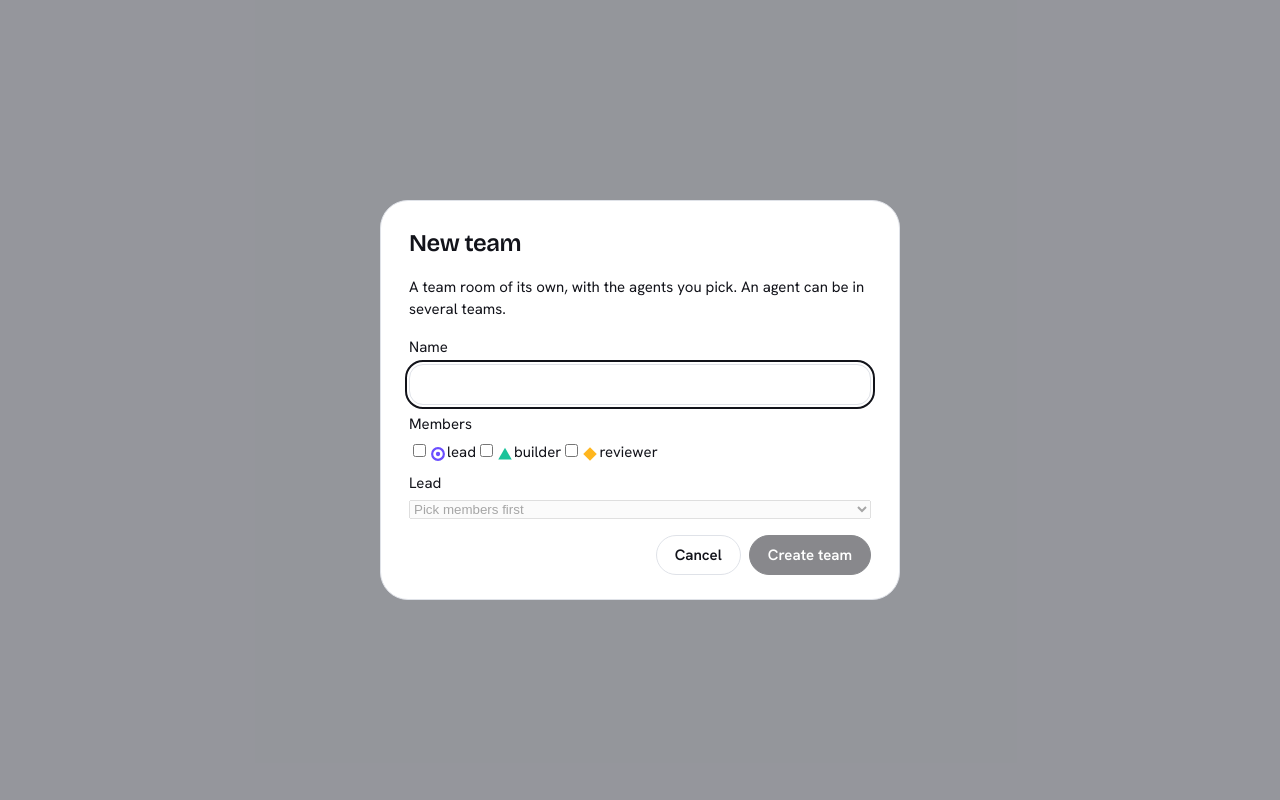
New team shows the server’s refusal inline and stays open
This screenshot has width=1280, height=800.
Type "Review crew" into the field labelled "Name". click: (640, 385)
box: [409,364,871,405]
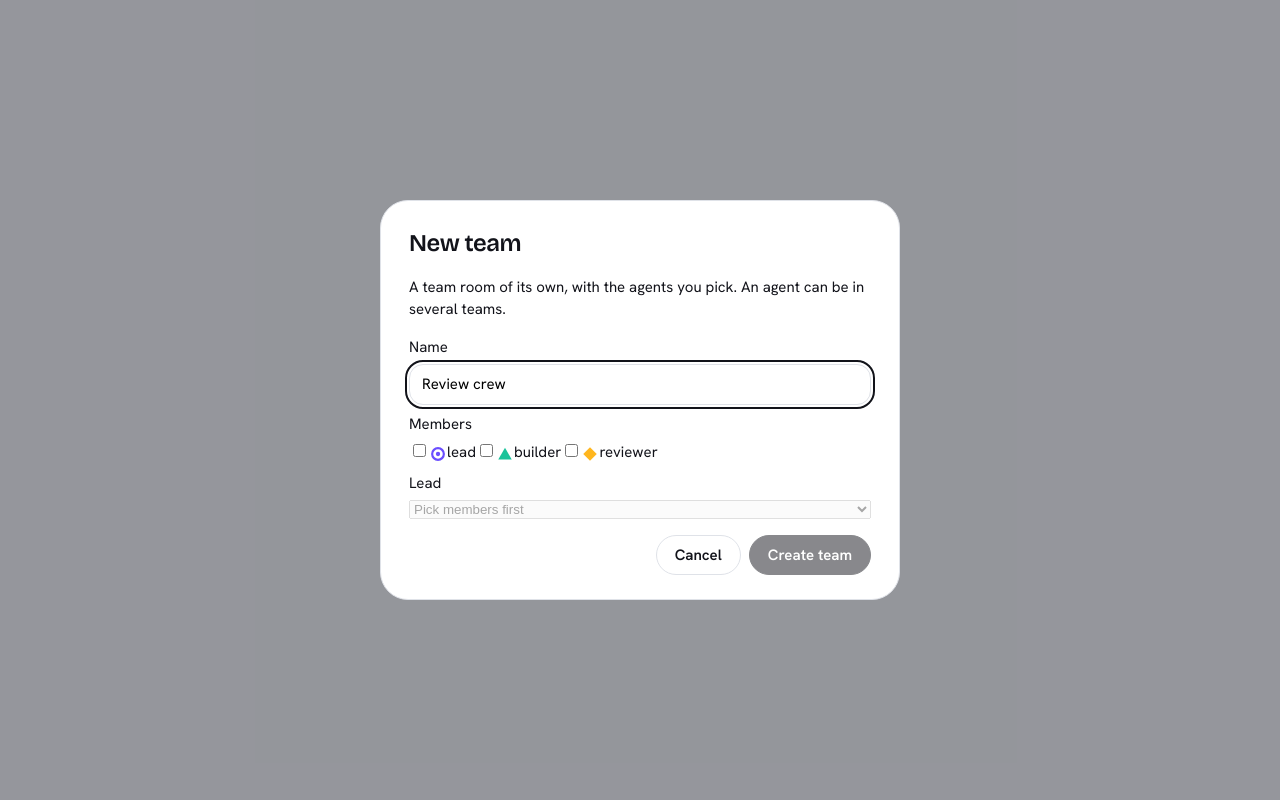
Click the checkbox labelled "lead". click: click(420, 451)
box: [413,444,426,457]
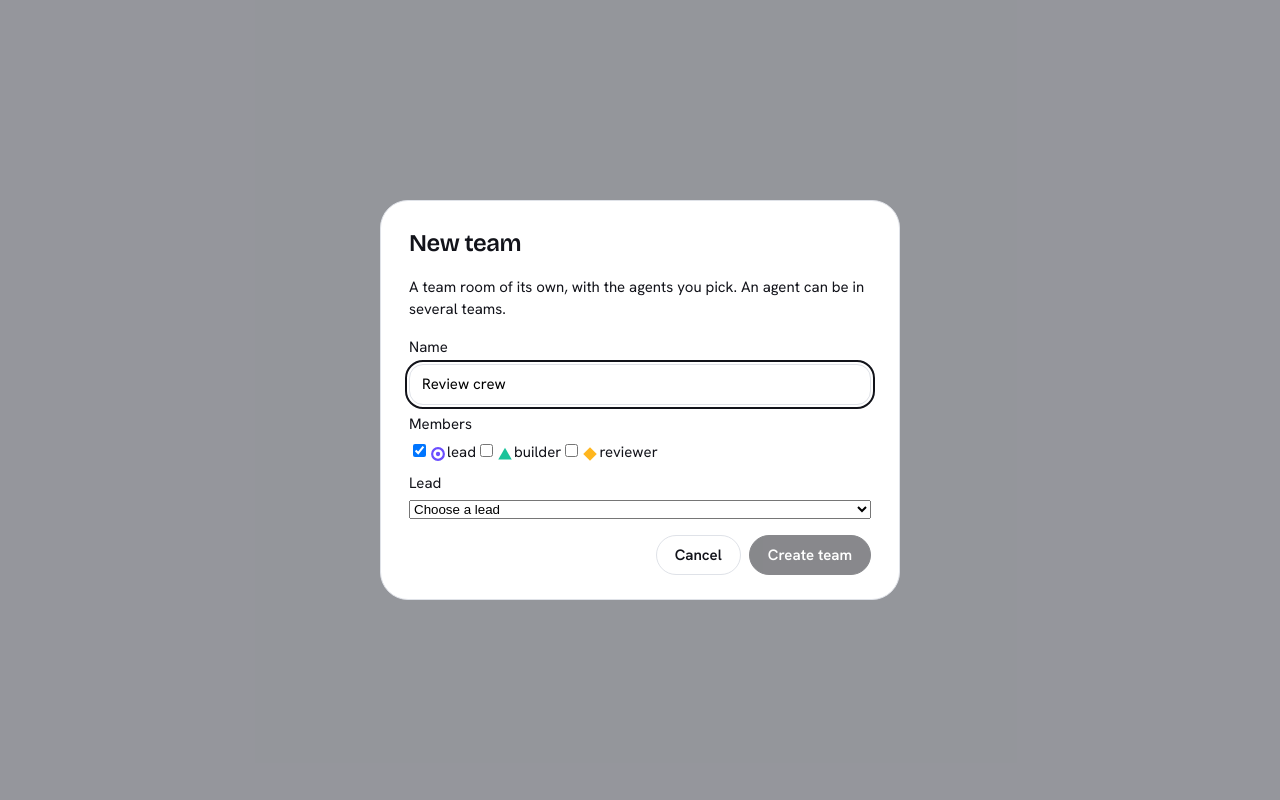
Select "lead" in the dropdown labelled "Lead". click: (640, 510)
box: [409,500,871,519]
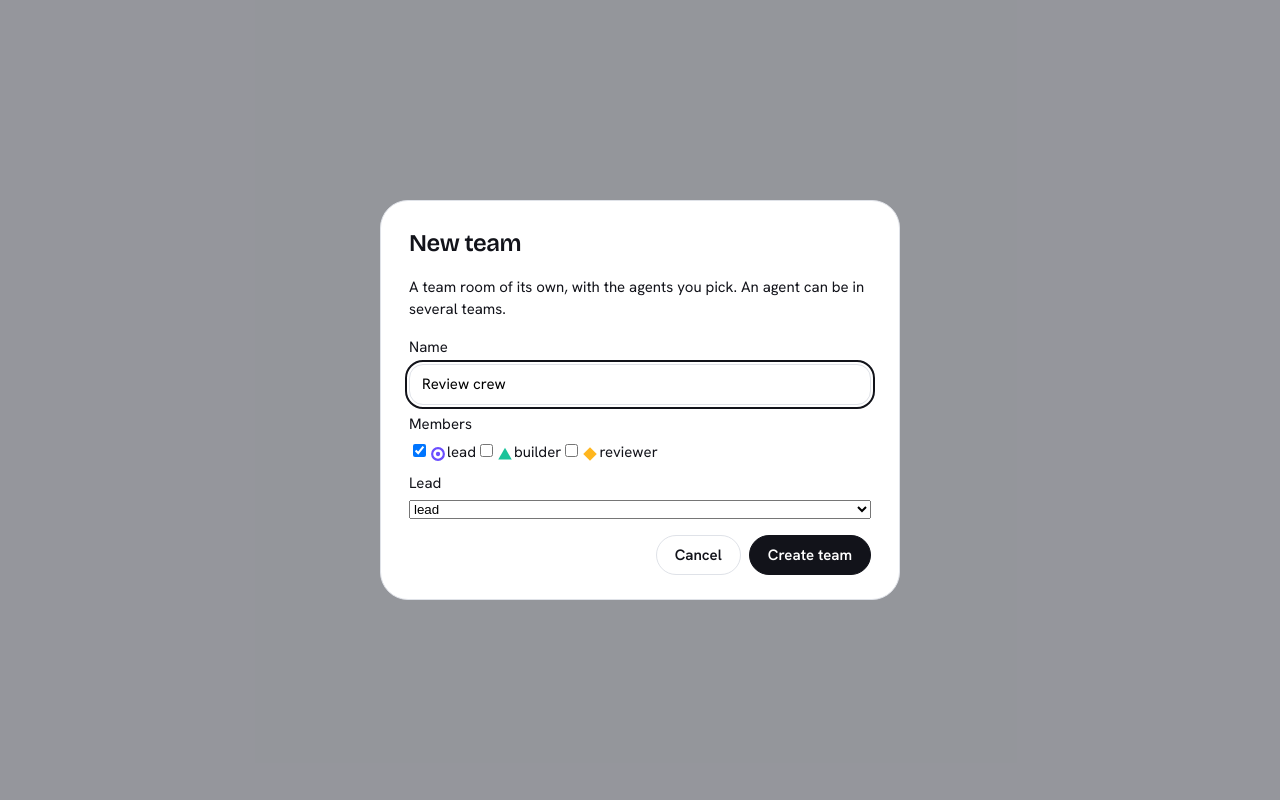
Click the button "Create team". click: click(810, 555)
box: [749,535,871,575]
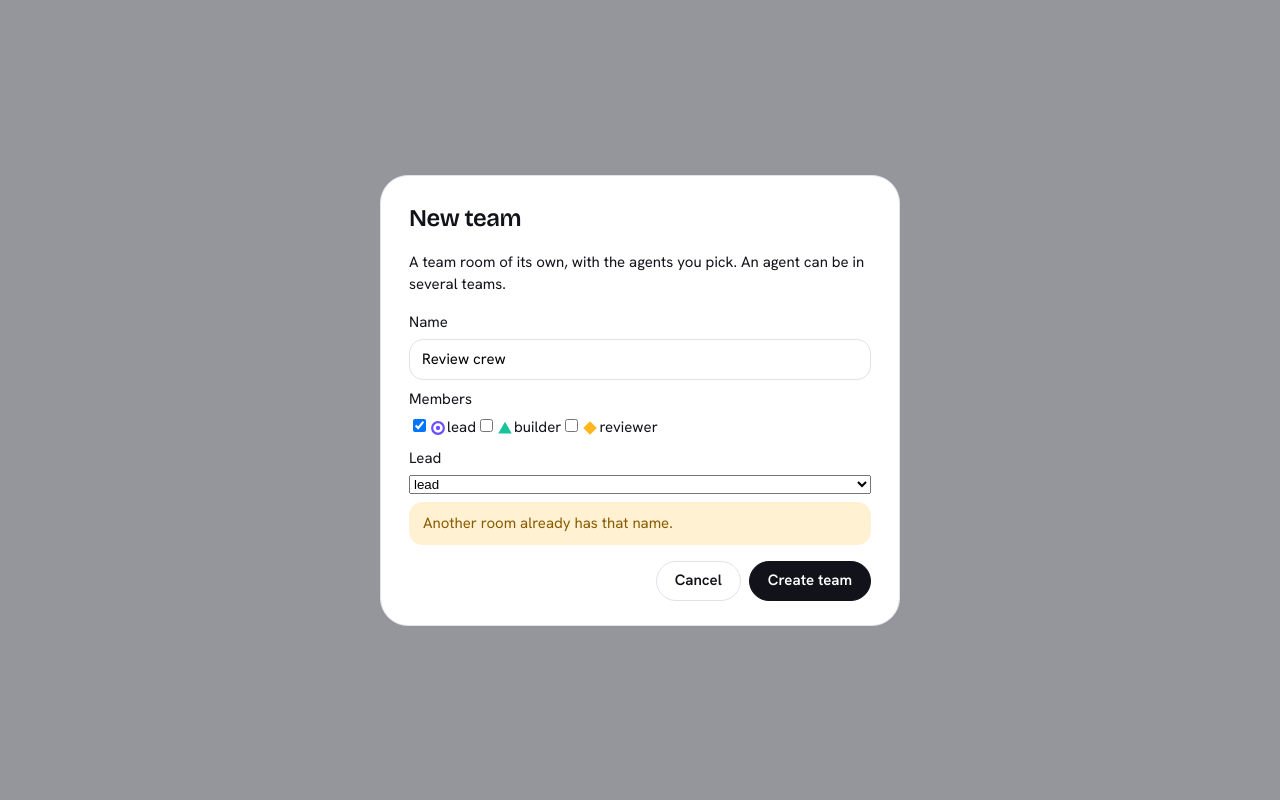
Expected: the message shows "already has that name", [423,513,673,533]
